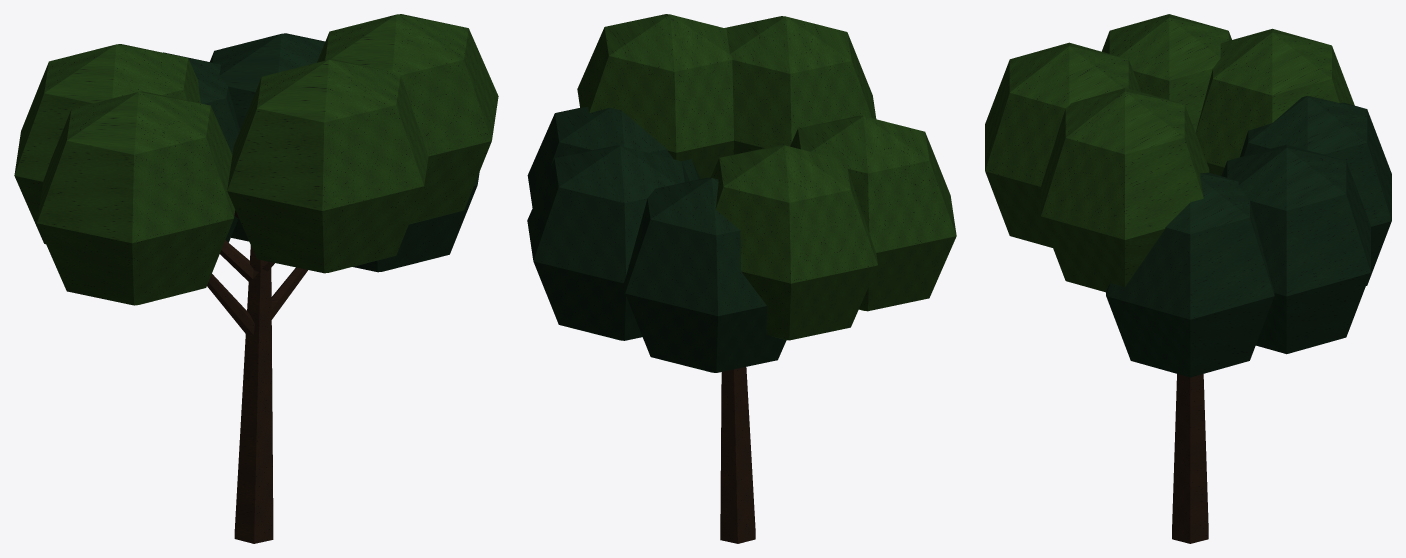
Rendered from PROP-1363EB3367A2_lod2.glb.
3 renders of one model, left to right at view 1: azimuth 30°, elevation 25°; view 2: azimuth 150°, elevation 25°; view 3: azimuth 270°, elevation 25°, orthographic. The views are drawn at different scales.
Parts seen in each view (by area): view 1: leaf_crown.025, leaf_crown.024, trunk.034, branch.016; view 2: leaf_crown.025, leaf_crown.024, trunk.034; view 3: leaf_crown.025, leaf_crown.024, trunk.034.
Part boxes in pixels (left/top/right/bottom): leaf_crown.025: left=14, top=14, right=498, bottom=305; leaf_crown.024: left=163, top=33, right=479, bottom=272; trunk.034: left=234, top=245, right=273, bottom=543; branch.016: left=207, top=210, right=307, bottom=335; leaf_crown.025: left=577, top=14, right=956, bottom=340; leaf_crown.024: left=527, top=107, right=786, bottom=372; trunk.034: left=720, top=367, right=755, bottom=543; leaf_crown.025: left=985, top=14, right=1354, bottom=292; leaf_crown.024: left=1106, top=96, right=1391, bottom=377; trunk.034: left=1172, top=374, right=1208, bottom=543.
Bounding box in the file's own units: 5.7 × 6.17 × 4.6.
Materials: 3 (3 with a texture image).
